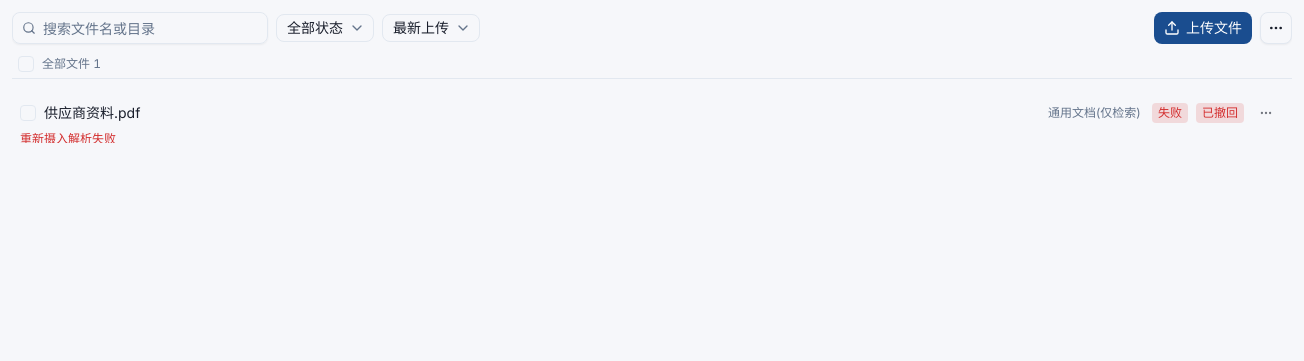
SourcesView document lifecycle › uses explicit reingestion instead of row retry for withdrawn failures
The width and height of the screenshot is (1304, 361).
Expected: the button "供应商资料.pdf" is shown, left=44, top=103, right=1040, bottom=123
Click the button named "供应商资料.pdf 的更多操作".
click(1266, 113)  # box left=1252, top=99, right=1280, bottom=127
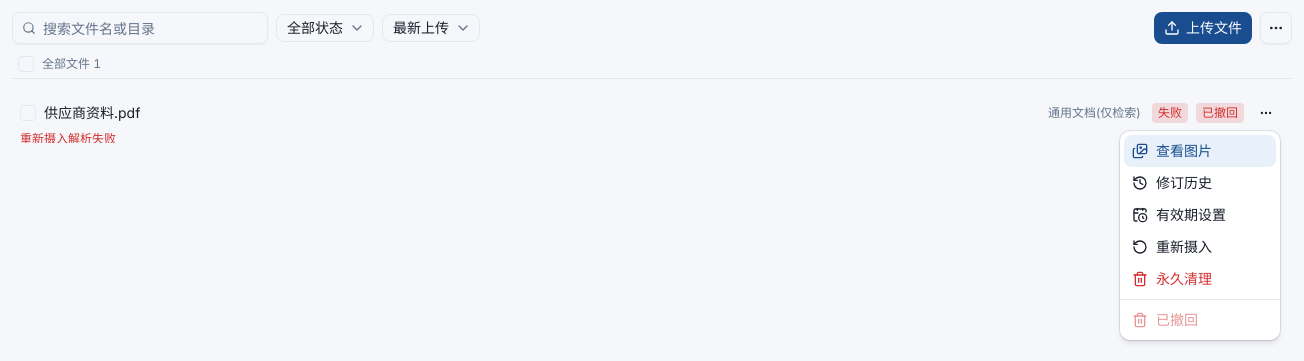
Expected: the menu item "重新摄入" is shown, left=1132, top=238, right=1212, bottom=255
